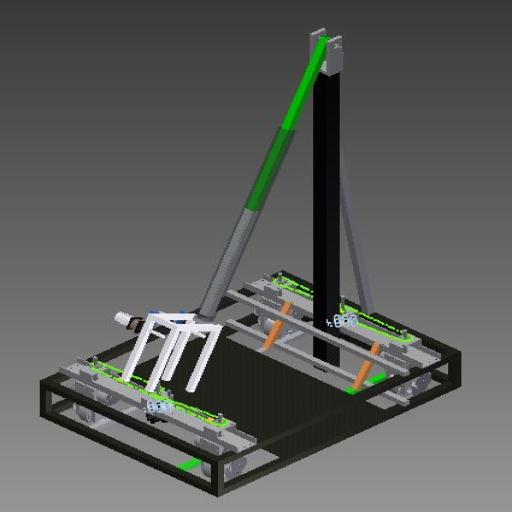robot: (35, 17, 466, 501)
